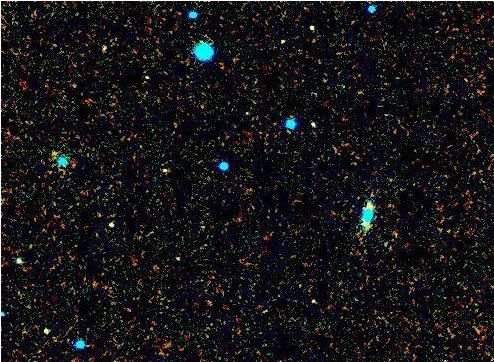star: (37, 138, 67, 168)
